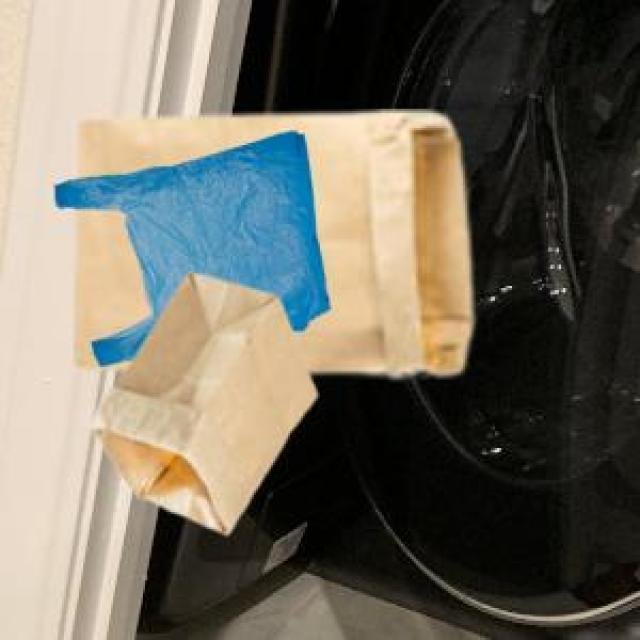paper: (73, 109, 467, 373), (88, 269, 314, 529)
